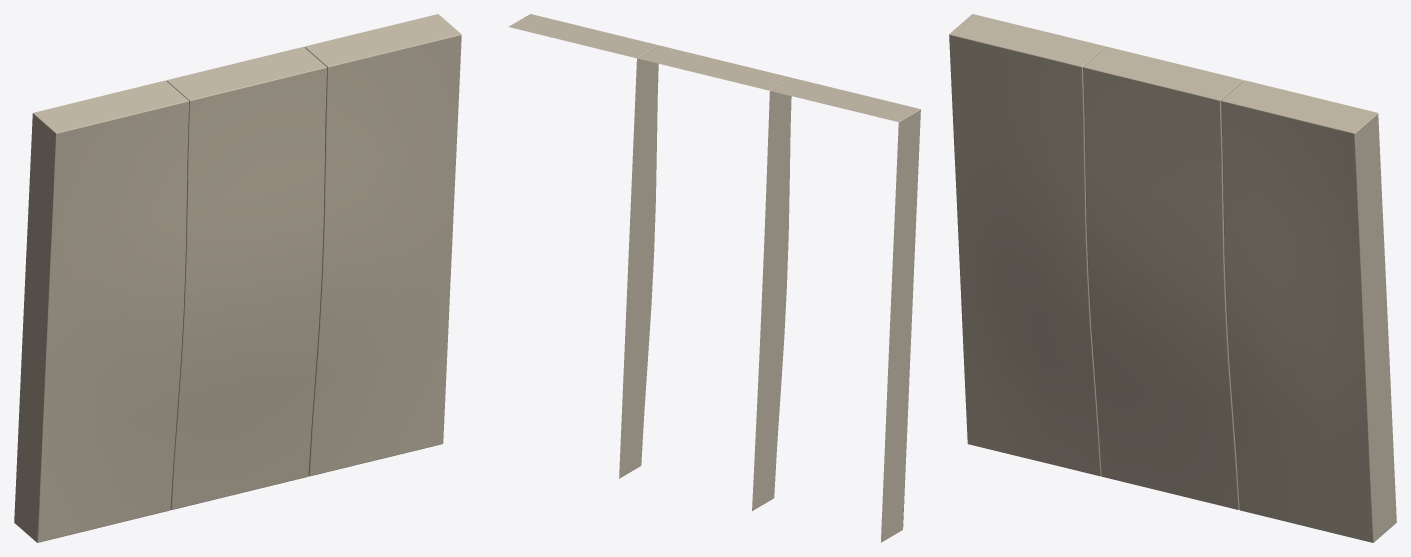
The model's file is cream.glb.
The picture shows the model from 3 angles, left to right: view 1: azimuth 30°, elevation 25°; view 2: azimuth 150°, elevation 25°; view 3: azimuth 330°, elevation 25°; orthographic projection. The views are drawn at different scales.
Visible parts, largest first — view 1: Object012; view 2: Object012; view 3: Object012.
Boxes of the visible parts, x1=… form: Object012: x1=14, y1=14, x2=461, y2=542; Object012: x1=509, y1=14, x2=920, y2=542; Object012: x1=949, y1=14, x2=1396, y2=542.
Size of the model in its own units: 0.0528 by 0.053 by 0.00946.
